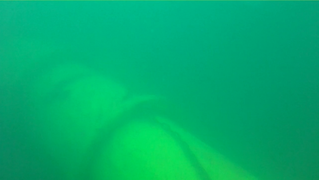1: (40, 72, 92, 106)
pipe: (1, 17, 260, 179)
